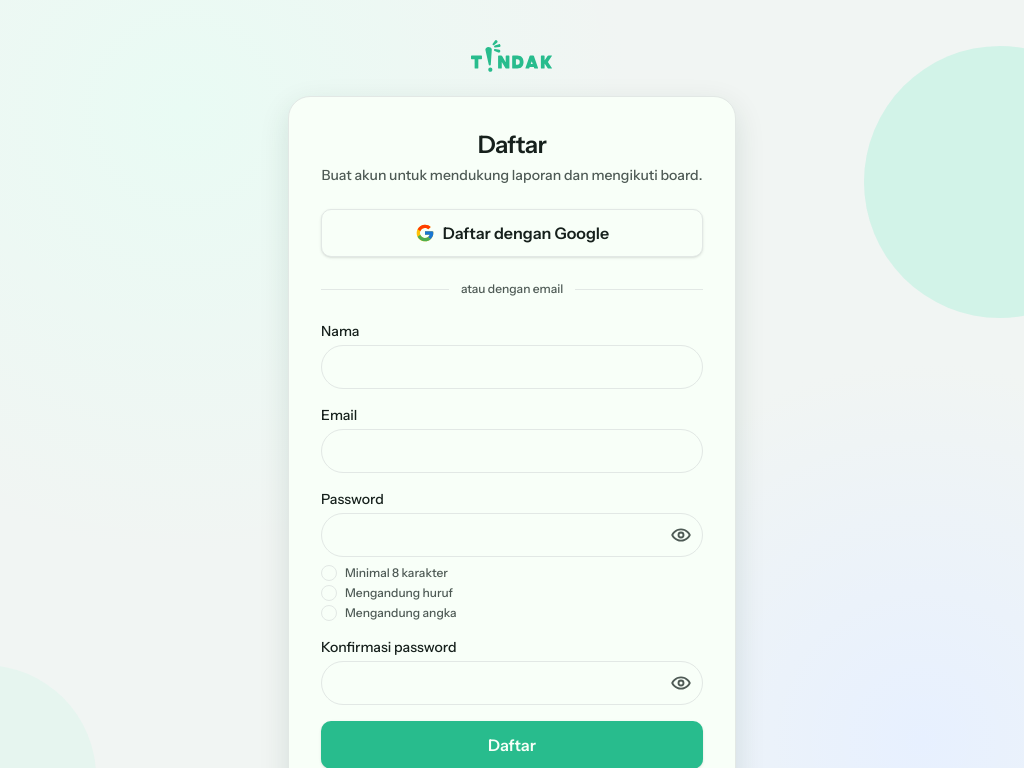
Halaman daftar › tombol mata menampilkan dan menyembunyikan password
Type "Rahasia123" into the password field labelled "Password" at (512,535), box [321,513,703,557]
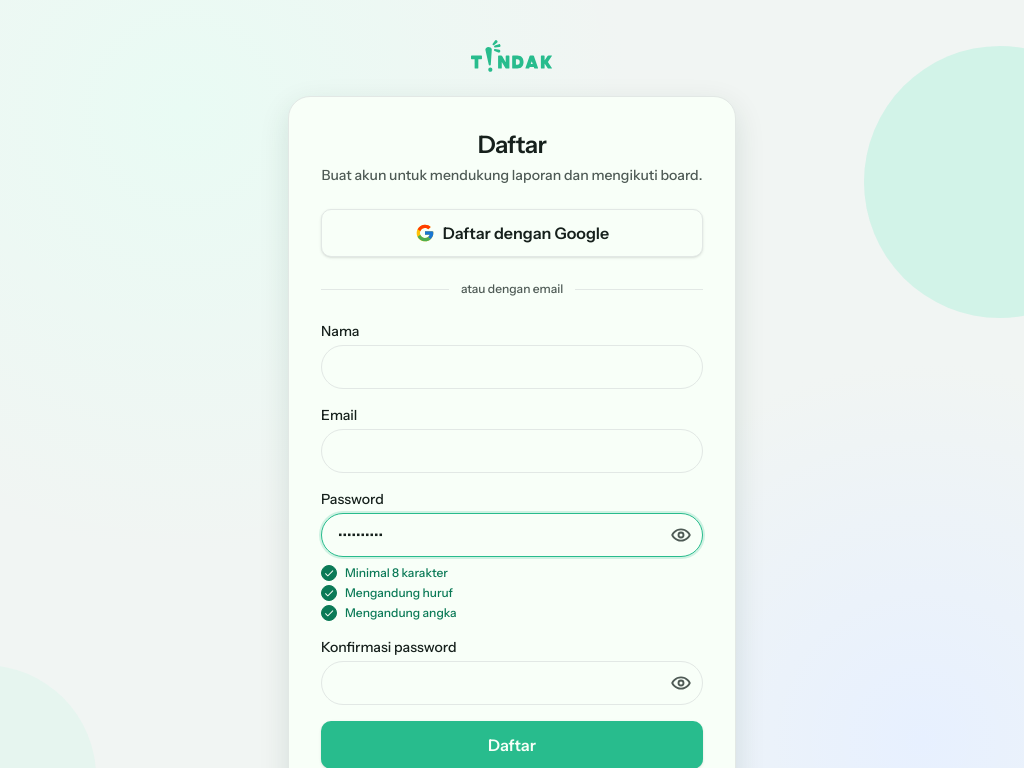
Click the 1st button named "Tampilkan password" at (681,535), box [663,517,699,553]
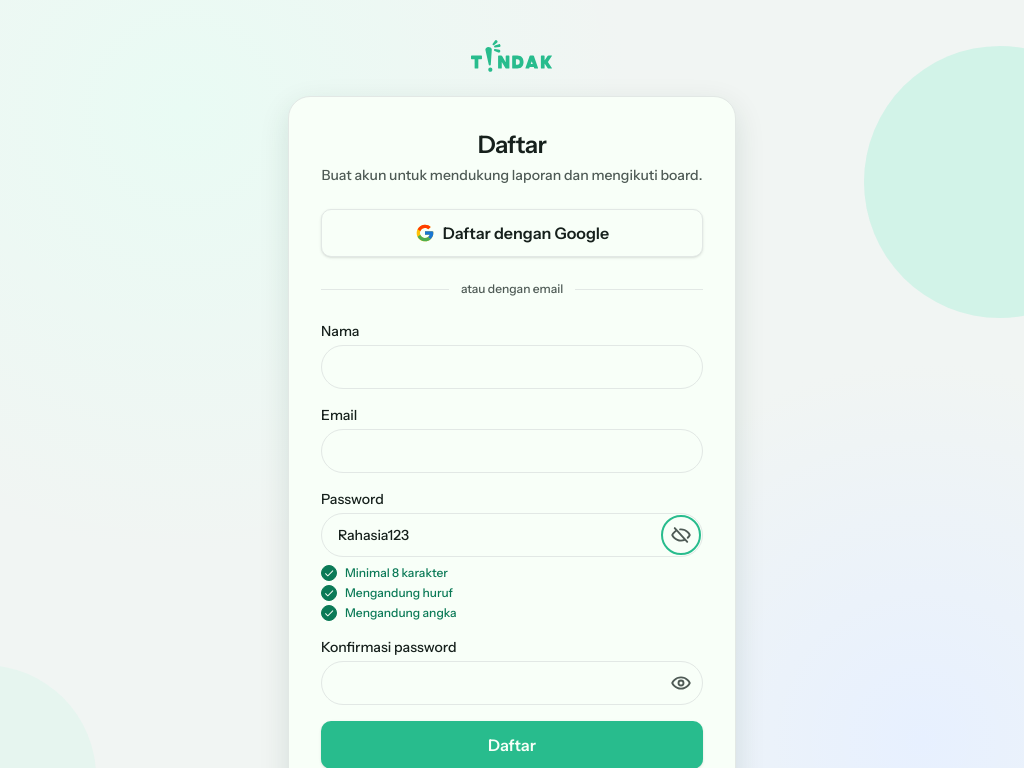
Expected: the field labelled "Password" shows its text, [321,513,703,557]
Click the button named "Sembunyikan password" at (681,535), box [663,517,699,553]
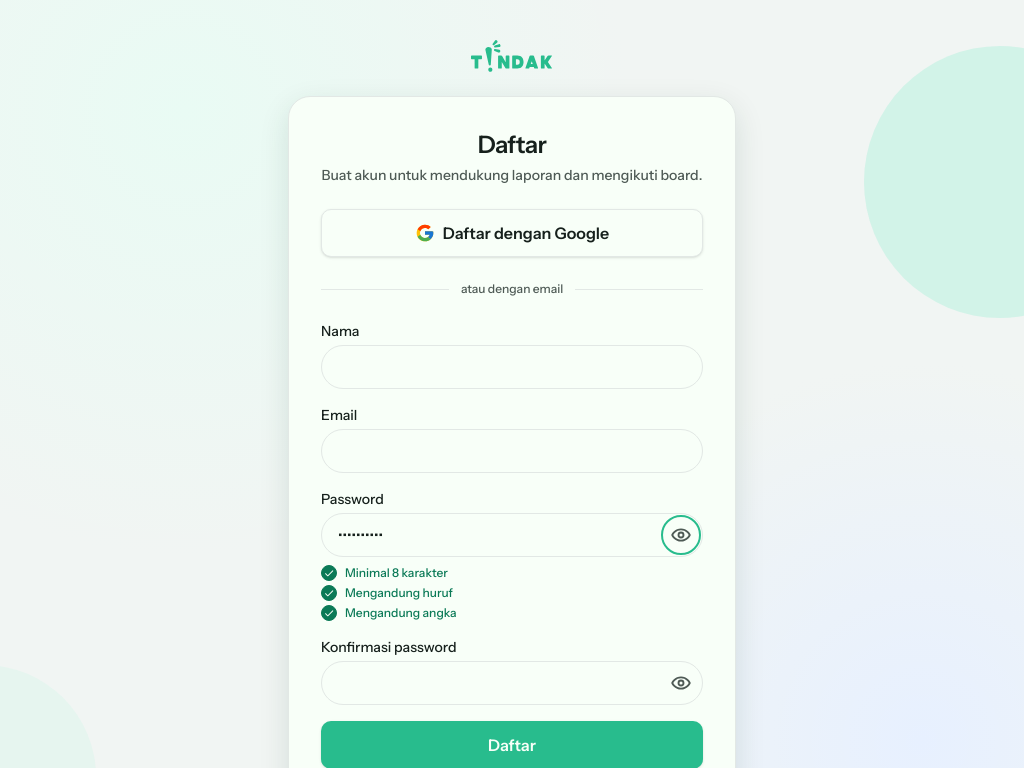
Expected: the password field labelled "Password" hides its text, [321,513,703,557]
